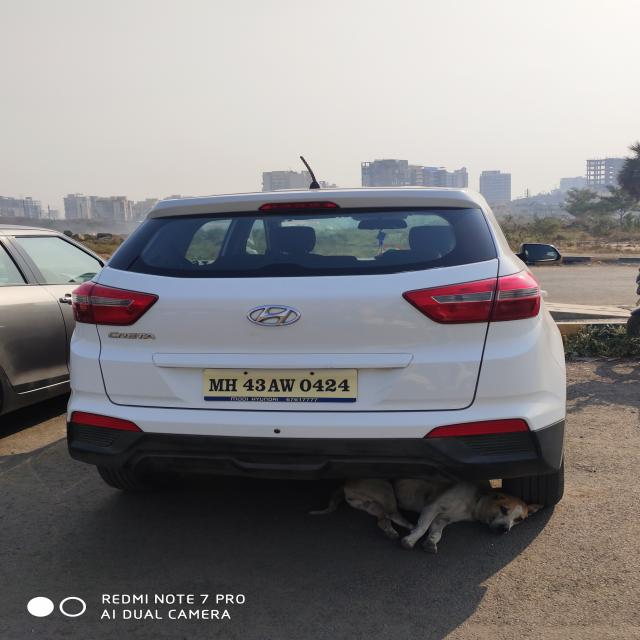Number-Plate: (207, 370, 356, 400)
